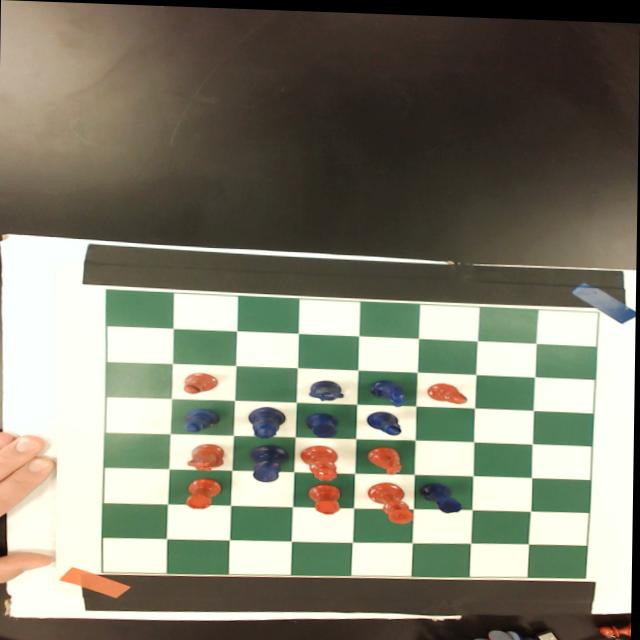B: (181, 405, 223, 435), (367, 407, 405, 434)
K: (247, 441, 291, 483)
N: (367, 375, 410, 406), (305, 377, 349, 400)
Q: (247, 403, 289, 439)
R: (420, 478, 464, 511), (302, 409, 341, 437)
b: (176, 368, 220, 396), (424, 378, 469, 401)
k: (367, 479, 417, 522)
n: (185, 441, 227, 471), (365, 443, 405, 474)
q: (298, 441, 340, 480)
r: (185, 475, 226, 510), (307, 481, 344, 514)
